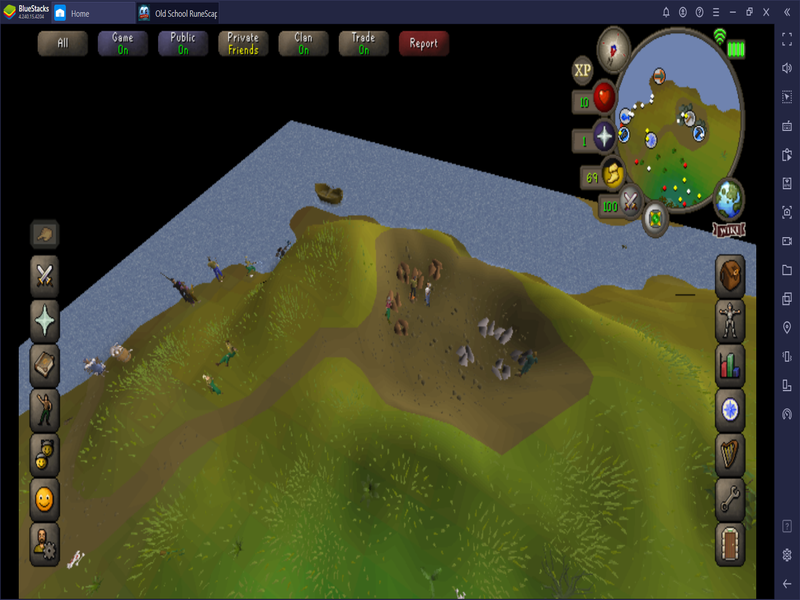copper_rock_1: (394, 316, 412, 337)
copper_rock_2: (387, 291, 404, 311)
